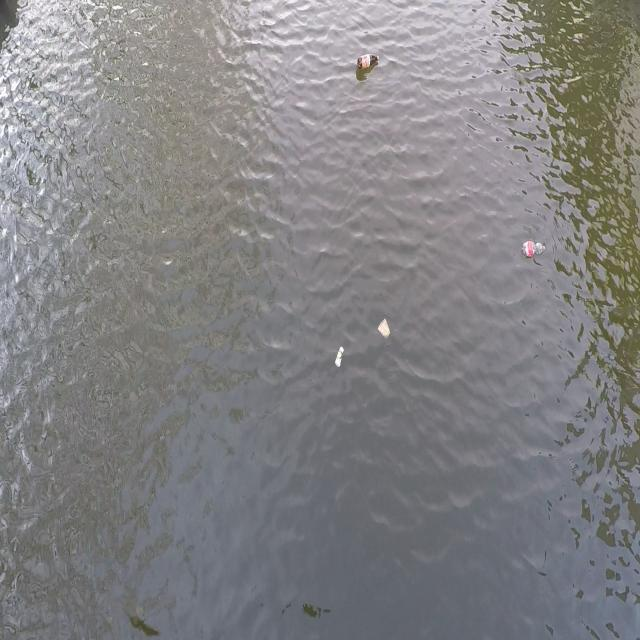Bouteille plastique: (520, 238, 548, 260), (356, 52, 379, 72)
Non plastique: (378, 316, 392, 341), (334, 344, 346, 370)
